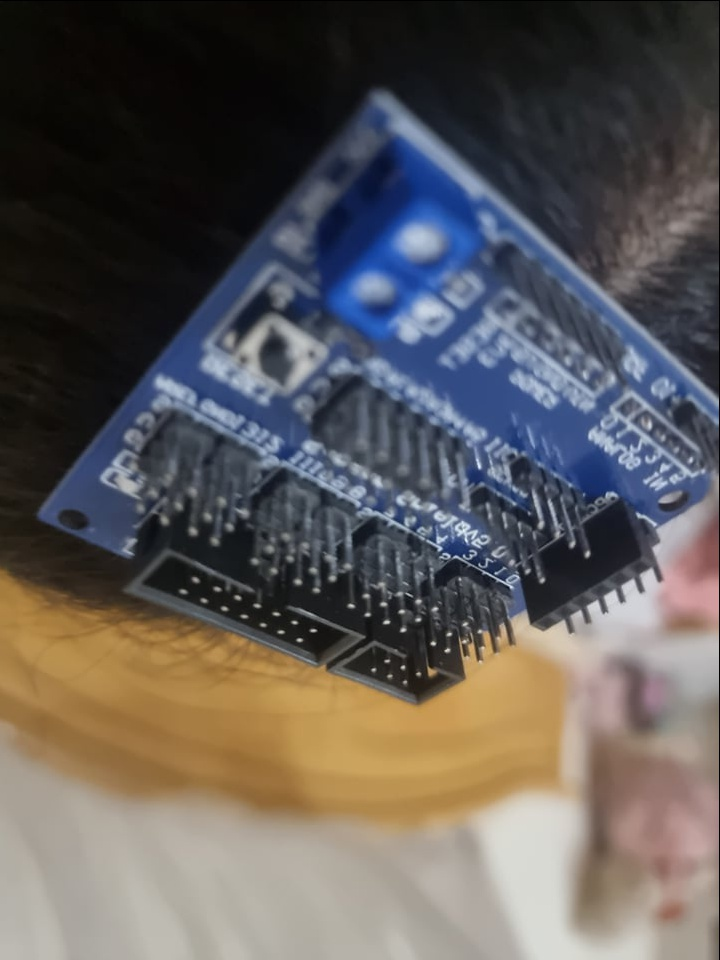5V EXPANSION: (42, 87, 720, 712)
